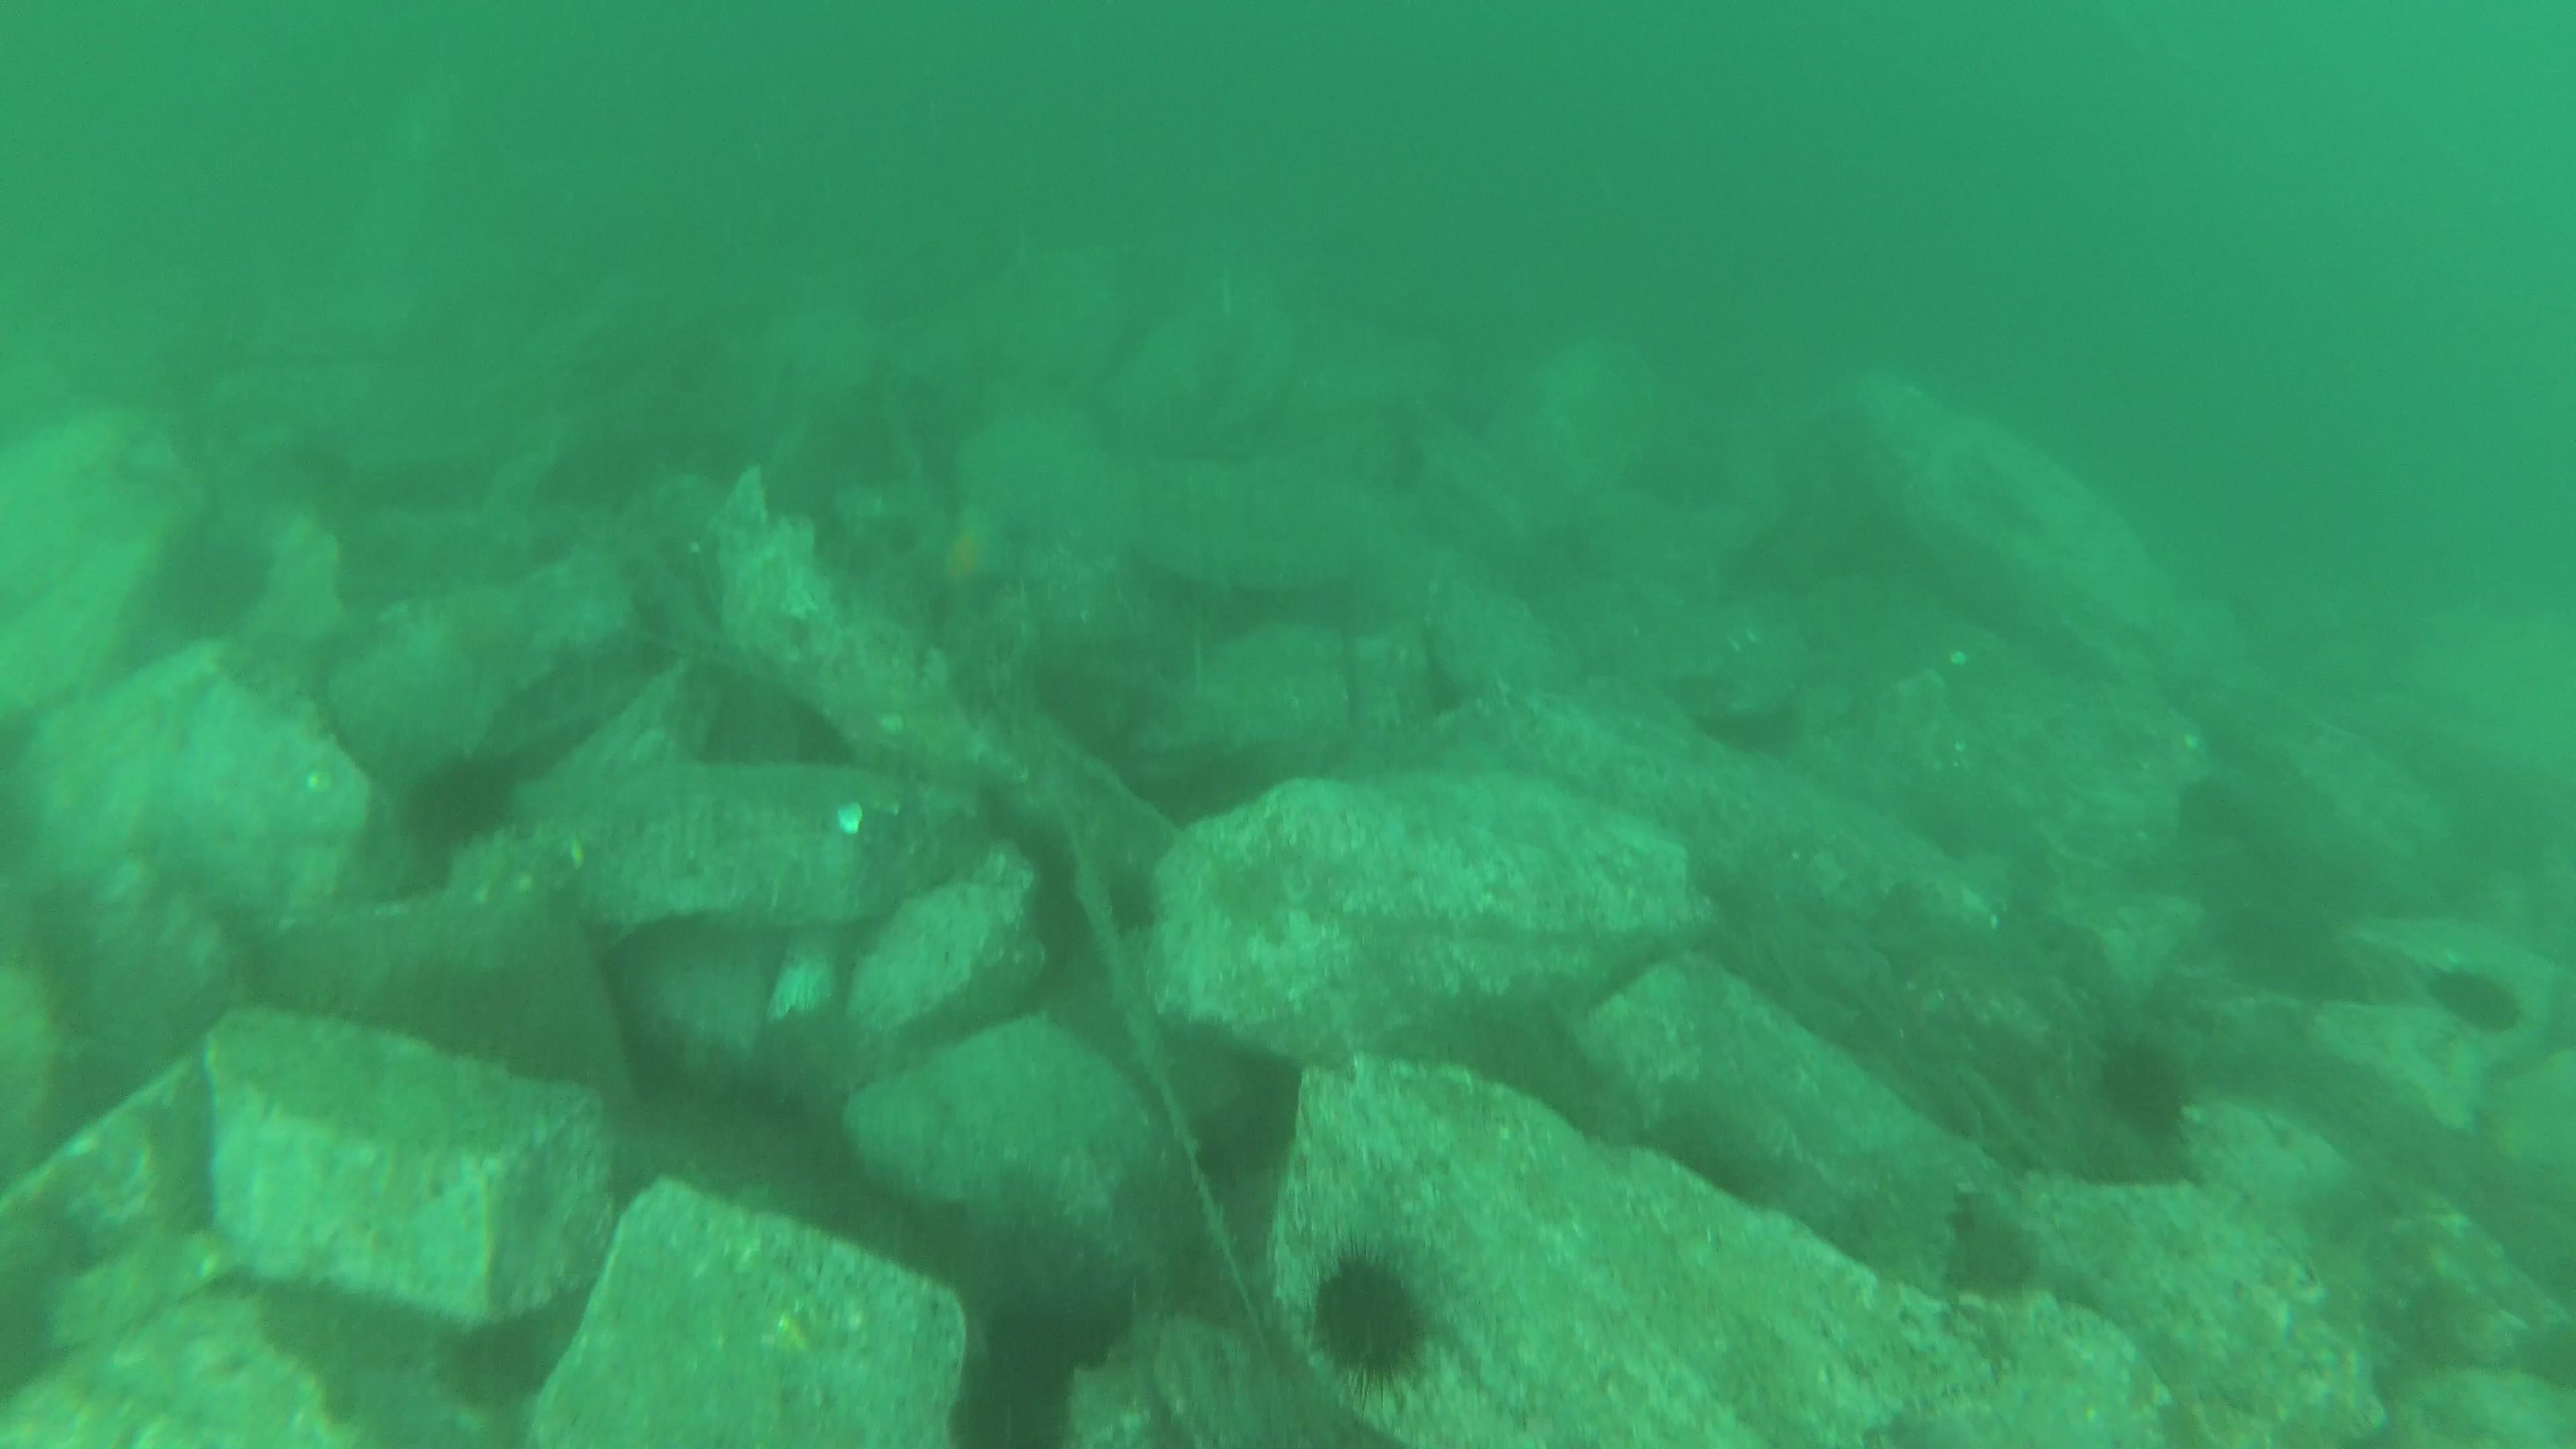echinus: (1269, 1230, 1461, 1424), (2098, 1026, 2215, 1154), (384, 761, 533, 853), (2438, 948, 2534, 1051)
starfish: (920, 497, 1021, 605)
